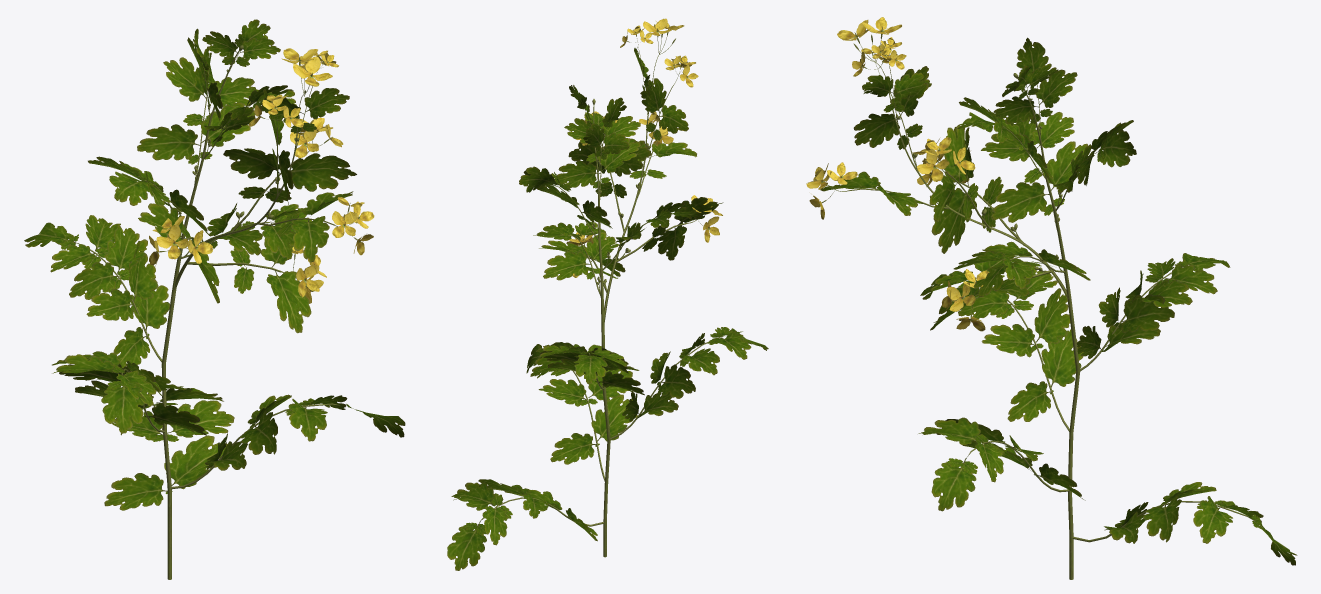
3 views of the same model, side by side, from view 1: azimuth 30°, elevation 25°; view 2: azimuth 150°, elevation 25°; view 3: azimuth 270°, elevation 25° (orthographic). The views are drawn at different scales.
Visible parts, largest first — view 1: GC06_01; view 2: GC06_01; view 3: GC06_01.
Part boxes in pixels (bbox=[...]): GC06_01: bbox=[24, 19, 405, 579]; GC06_01: bbox=[447, 18, 768, 570]; GC06_01: bbox=[806, 17, 1297, 579].
Size of the model in its own units: 2.37 by 4.14 by 3.29.
5 materials, 5 textured.
